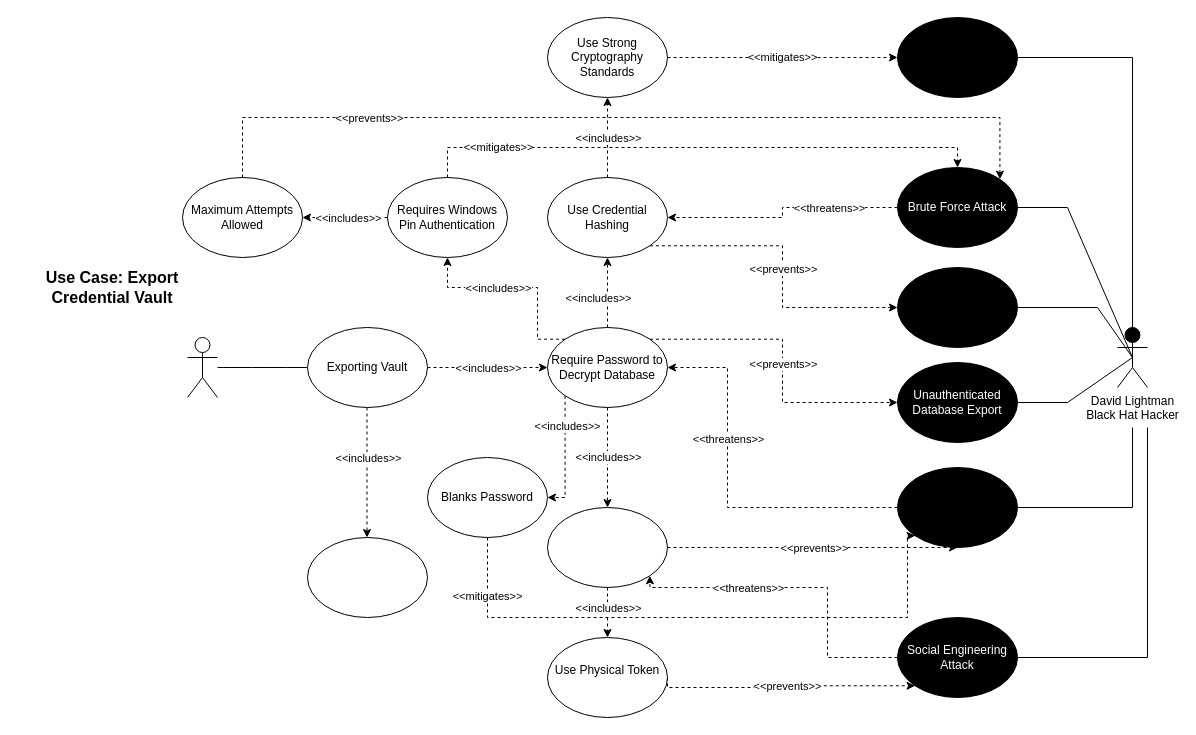
This 1196x735 diagram has some shape labels left out. The centre of each missing label's shape, as x and y in pixels:
Encrypt Vault: point (367, 577)
Exploit Weak Cryptography: point (957, 57)
Shoulder Surfing: point (957, 507)
Steal Plain Text DB Password: point (957, 307)
Stephen Falken System Admin: point (202, 367)
Use MFA: point (607, 547)
